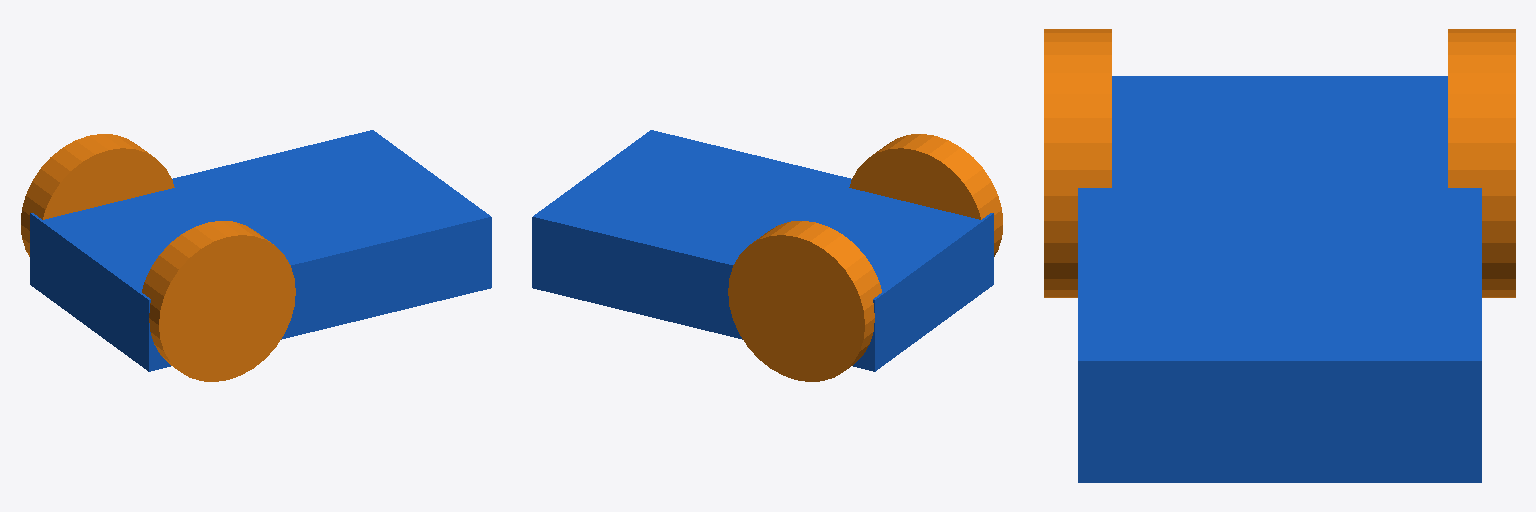
The robot description file, URDF, robot "simple_diff_drive_robot":
<?xml version="1.0"?>
<robot name="simple_diff_drive_robot">

  <!-- Main chassis -->
  <link name="base_link">
    <visual>
      <geometry>
        <box size="0.5 0.3 0.1"/>
      </geometry>
      <material name="chassis">
        <color rgba="0.15 0.45 0.85 1"/>
      </material>
    </visual>
    <collision>
      <geometry>
        <box size="0.5 0.3 0.1"/>
      </geometry>
    </collision>
    <inertial>
      <mass value="2.0"/>
      <inertia ixx="0.01" iyy="0.01" izz="0.01" ixy="0" ixz="0" iyz="0"/>
    </inertial>
  </link>

  <!-- Left wheel -->
  <link name="left_wheel">
    <visual>
      <geometry>
        <cylinder length="0.05" radius="0.1"/>
      </geometry>
      <material name="wheel">
        <color rgba="0.95 0.55 0.12 1"/>
      </material>
    </visual>
  </link>

  <!-- Right wheel -->
  <link name="right_wheel">
    <visual>
      <geometry>
        <cylinder length="0.05" radius="0.10"/>
      </geometry>
      <material name="wheel">
        <color rgba="0.95 0.55 0.12 1"/>
      </material>
    </visual>
  </link>

  <!-- Small rear wheel (caster) -->
  <link name="caster_wheel">
    <visual>
      <geometry>
        <sphere radius="0.02"/>
      </geometry>
      <material name="caster">
        <color rgba="0.2 0.2 0.22 1"/>
      </material>
    </visual>
  </link>

  <joint name="left_wheel_joint" type="continuous">
    <parent link="base_link"/>
    <child link="left_wheel"/>
    <origin xyz="-0.15 0.15 0.025" rpy="1.5708 0 0"/>
    <axis xyz="0 0 1"/>
  </joint>

  <joint name="right_wheel_joint" type="continuous">
    <parent link="base_link"/>
    <child link="right_wheel"/>
    <origin xyz="-0.15 -0.15 0.025" rpy="1.5708 0 0"/>
    <axis xyz="0 0 1"/>
  </joint>

  <joint name="caster_joint" type="fixed">
    <parent link="base_link"/>
    <child link="caster_wheel"/>
    <origin xyz="0.15 0 -0.05" rpy="0 0 0"/>
  </joint>

</robot>

--- What the picture shows (computed from the rendered views, not written in the file) ---
3 views of the same robot in one strip: view 1: azimuth 30°, elevation 25°; view 2: azimuth 150°, elevation 25°; view 3: azimuth 270°, elevation 25° (orthographic).
Robot: simple_diff_drive_robot — 4 links, 3 joints (2 continuous, 1 fixed); root link base_link; default pose: every joint at zero.
Links seen in each view (by area): view 1: base_link, right_wheel, left_wheel; view 2: base_link, left_wheel, right_wheel; view 3: base_link, left_wheel, right_wheel.
Boxes of the visible links, bbox=[...] form: base_link: bbox=[30, 130, 491, 371]; right_wheel: bbox=[142, 221, 295, 381]; left_wheel: bbox=[21, 134, 174, 256]; base_link: bbox=[532, 130, 993, 371]; left_wheel: bbox=[728, 221, 881, 381]; right_wheel: bbox=[849, 134, 1002, 256]; base_link: bbox=[1078, 76, 1481, 482]; left_wheel: bbox=[1448, 29, 1515, 297]; right_wheel: bbox=[1044, 29, 1111, 297].
Bounding box of the posed robot: 0.5 × 0.35 × 0.2 m (x, y, z).
Geometry: primitives only (box / cylinder / sphere), no mesh files.
